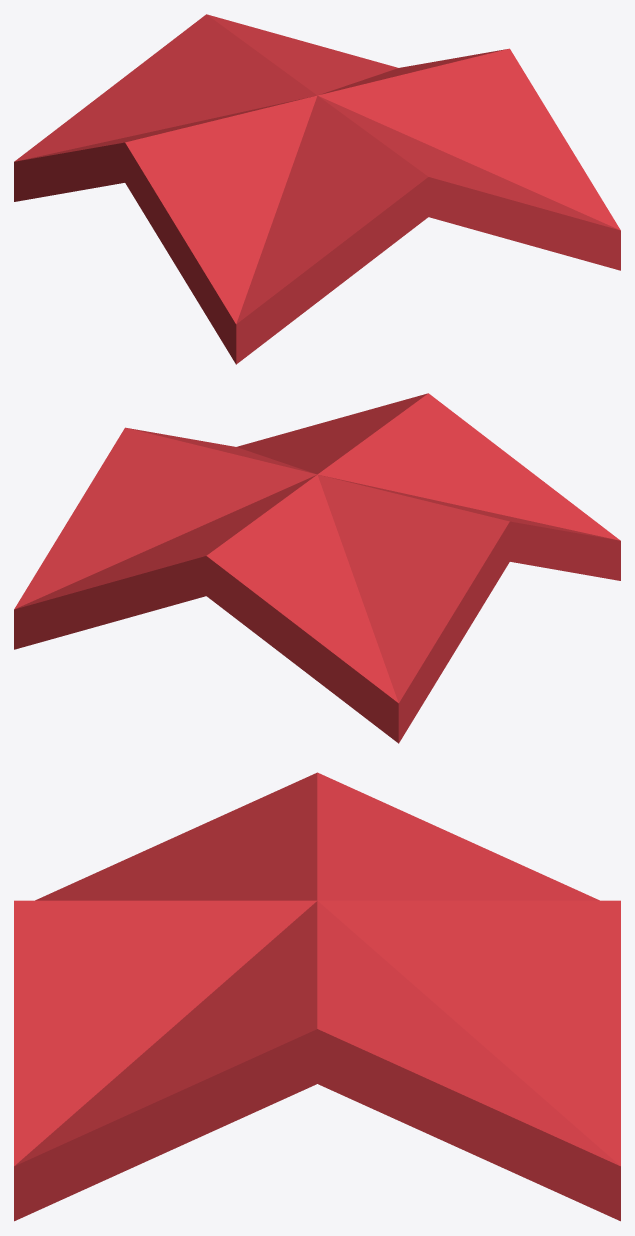
File: roof_small_4_corner.glb
3 views of the same model, one above another, from view 1: azimuth 30°, elevation 25°; view 2: azimuth 150°, elevation 25°; view 3: azimuth 270°, elevation 25° (orthographic). The views are drawn at different scales.
Visible parts, largest first — view 1: roof_small_4_corner; view 2: roof_small_4_corner; view 3: roof_small_4_corner.
Boxes of the visible parts, x1=… form: roof_small_4_corner: x1=14, y1=14, x2=620, y2=364; roof_small_4_corner: x1=14, y1=393, x2=620, y2=743; roof_small_4_corner: x1=14, y1=772, x2=620, y2=1221.
Bounding box in the file's own units: 1 × 0.35 × 1.
